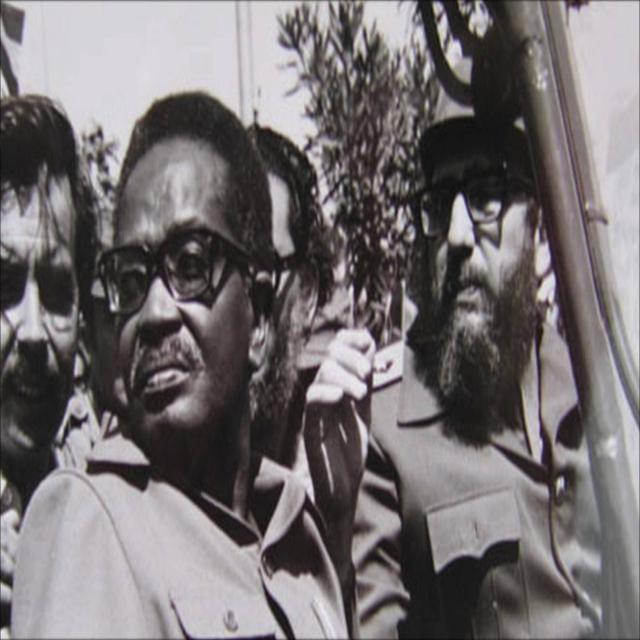body: (9, 90, 348, 639), (0, 54, 309, 639), (348, 58, 590, 639), (243, 123, 318, 501)
